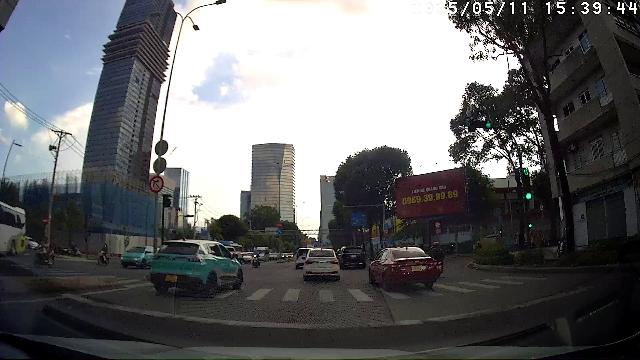103b-cam-oto-re-phai: (148, 175, 164, 192)
